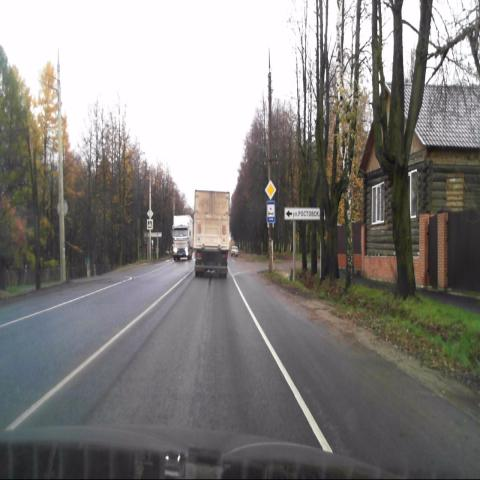2_1: (264, 181, 276, 200)
7_2: (266, 201, 275, 222)
